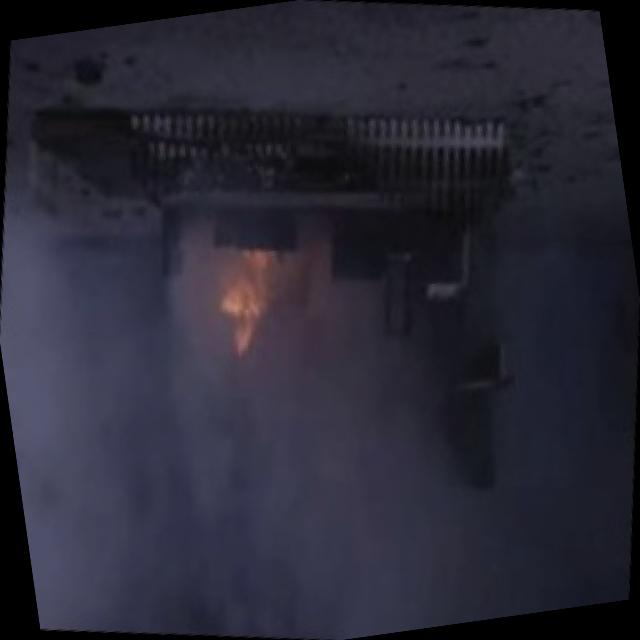fire: (178, 226, 321, 402)
smoke: (2, 298, 498, 640)
